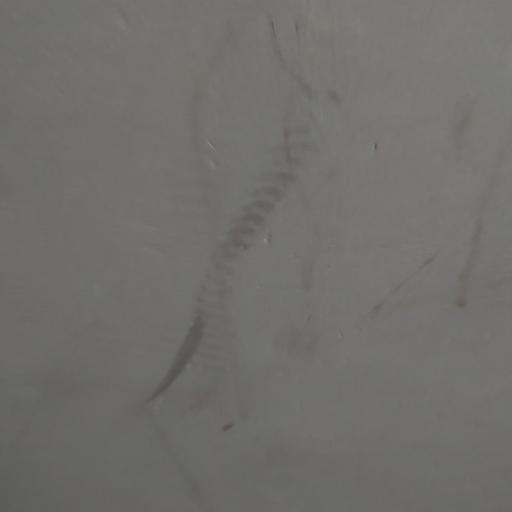stain: (122, 72, 397, 457)
